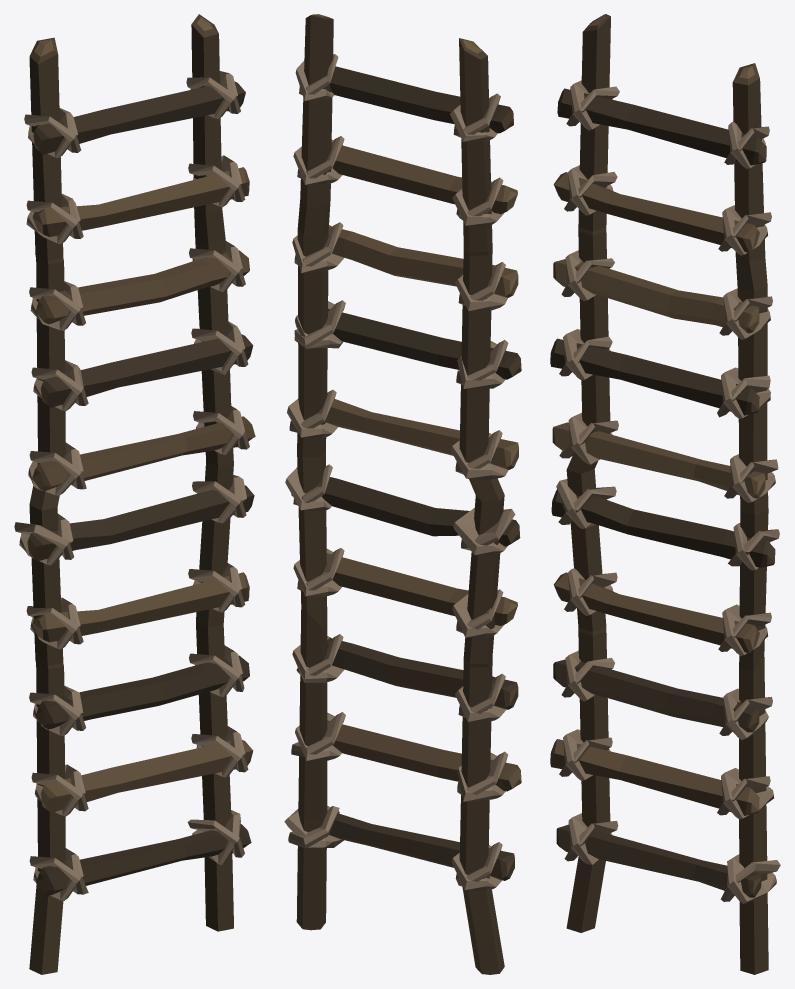
File: SM_Prop_Ladder_03.fbx
The picture shows the model from 3 angles, left to right: view 1: azimuth 30°, elevation 25°; view 2: azimuth 150°, elevation 25°; view 3: azimuth 330°, elevation 25°; orthographic projection. The views are drawn at different scales.
Parts seen in each view (by area): view 1: SM_Prop_Ladder_03; view 2: SM_Prop_Ladder_03; view 3: SM_Prop_Ladder_03.
Part boxes in pixels (bbox=[...]): SM_Prop_Ladder_03: bbox=[14, 14, 255, 974]; SM_Prop_Ladder_03: bbox=[284, 14, 521, 974]; SM_Prop_Ladder_03: bbox=[550, 14, 780, 974].
Bounding box in the file's own units: 83.71 × 334 × 29.62.
